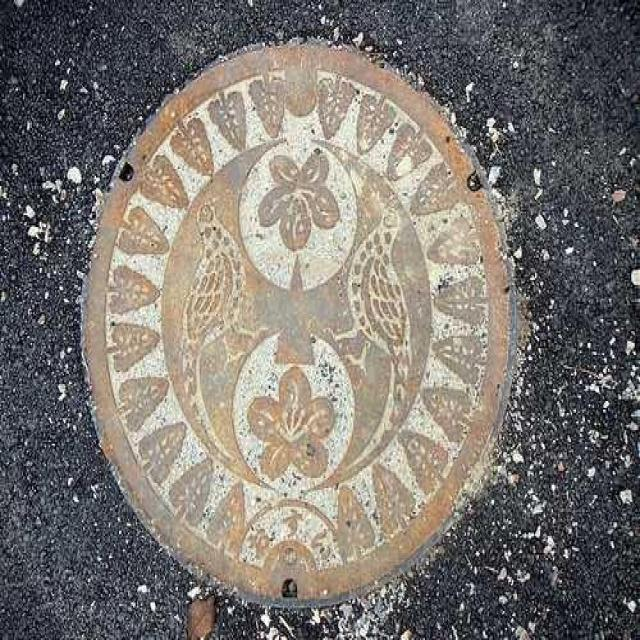manhole: (84, 48, 514, 604)
